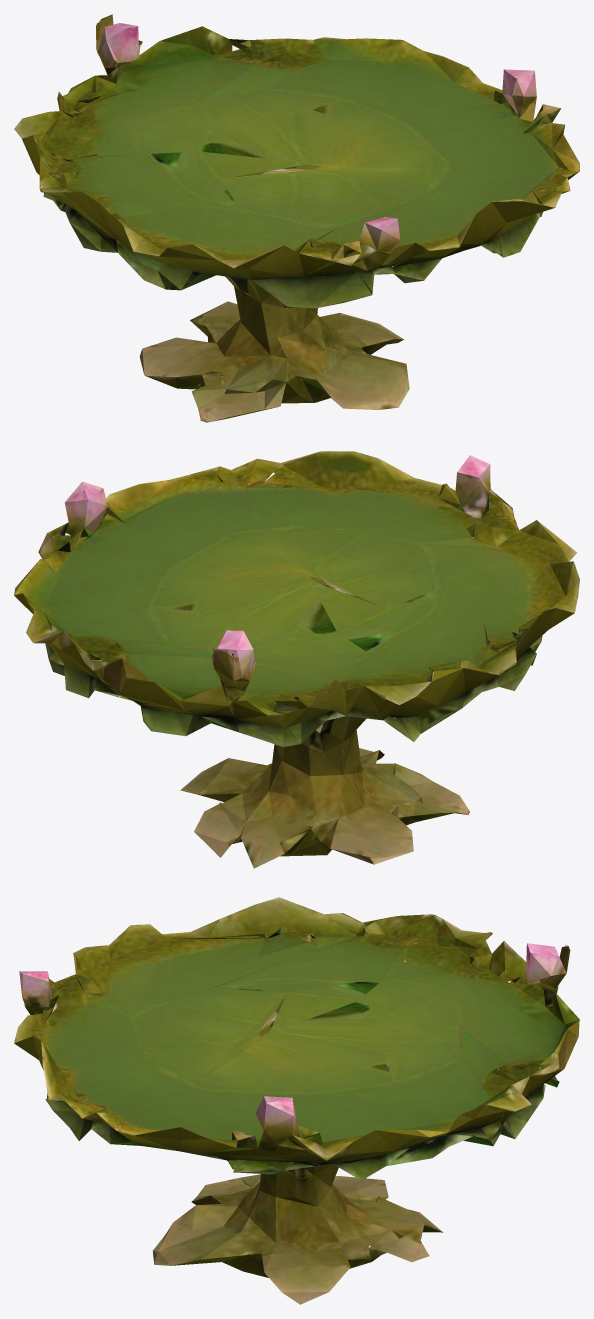
Rendered from fairy_lily_platform_1117.glb.
The picture shows the model from 3 angles, top to bottom: view 1: azimuth 30°, elevation 25°; view 2: azimuth 150°, elevation 25°; view 3: azimuth 270°, elevation 25°; orthographic projection. The views are drawn at different scales.
Visible parts, largest first — view 1: world; view 2: world; view 3: world.
Part boxes in pixels (x1,y1,x2,y2): world: (14,14,579,422); world: (14,451,579,868); world: (14,897,579,1304).
Size of the model in its own units: 1.75 by 1 by 1.78.
Materials: 1 (1 with a texture image).
